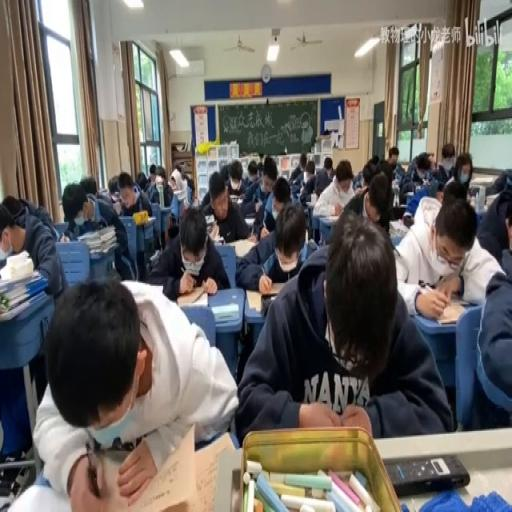calculator: (190, 428, 238, 511), (422, 292, 474, 324), (0, 287, 46, 320), (210, 300, 238, 322), (180, 287, 210, 306), (231, 236, 256, 258), (84, 195, 99, 222), (389, 219, 409, 238), (484, 192, 501, 208), (205, 215, 217, 236), (172, 186, 186, 202), (0, 248, 9, 270), (304, 238, 317, 252), (319, 212, 341, 220), (149, 248, 159, 264), (290, 181, 300, 196), (228, 192, 240, 202), (308, 193, 318, 205), (142, 215, 156, 223), (404, 189, 414, 199), (213, 234, 223, 244), (244, 216, 254, 225), (98, 186, 107, 194)
paper: (236, 209, 446, 442), (33, 274, 235, 510), (149, 203, 229, 300), (62, 180, 134, 284), (0, 194, 64, 304), (470, 258, 510, 426), (475, 176, 512, 264), (242, 160, 276, 230), (400, 148, 438, 202), (298, 155, 334, 203), (438, 150, 472, 200), (200, 164, 222, 206), (352, 154, 378, 189), (363, 189, 385, 222), (378, 159, 396, 191), (80, 175, 98, 199), (273, 188, 289, 213), (106, 175, 120, 200), (229, 164, 242, 188), (134, 171, 148, 192), (247, 160, 258, 184), (387, 145, 399, 166), (288, 165, 302, 183), (394, 160, 406, 180), (147, 164, 157, 186), (221, 163, 231, 185), (183, 174, 194, 194), (155, 170, 165, 188), (442, 148, 454, 163), (298, 152, 306, 172), (178, 164, 187, 179), (427, 156, 437, 168), (256, 159, 262, 178), (306, 168, 314, 180), (372, 155, 378, 165)
person: (386, 454, 470, 496), (0, 466, 22, 496), (260, 292, 278, 316), (413, 184, 420, 194)
